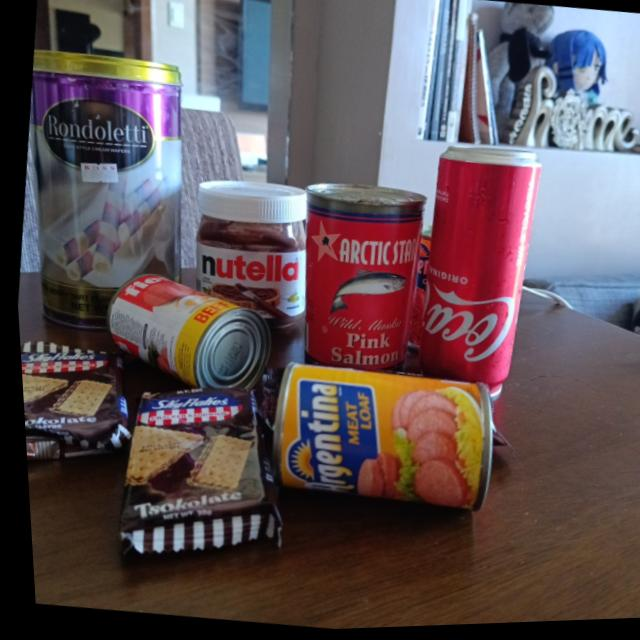coke: (406, 144, 550, 390)
